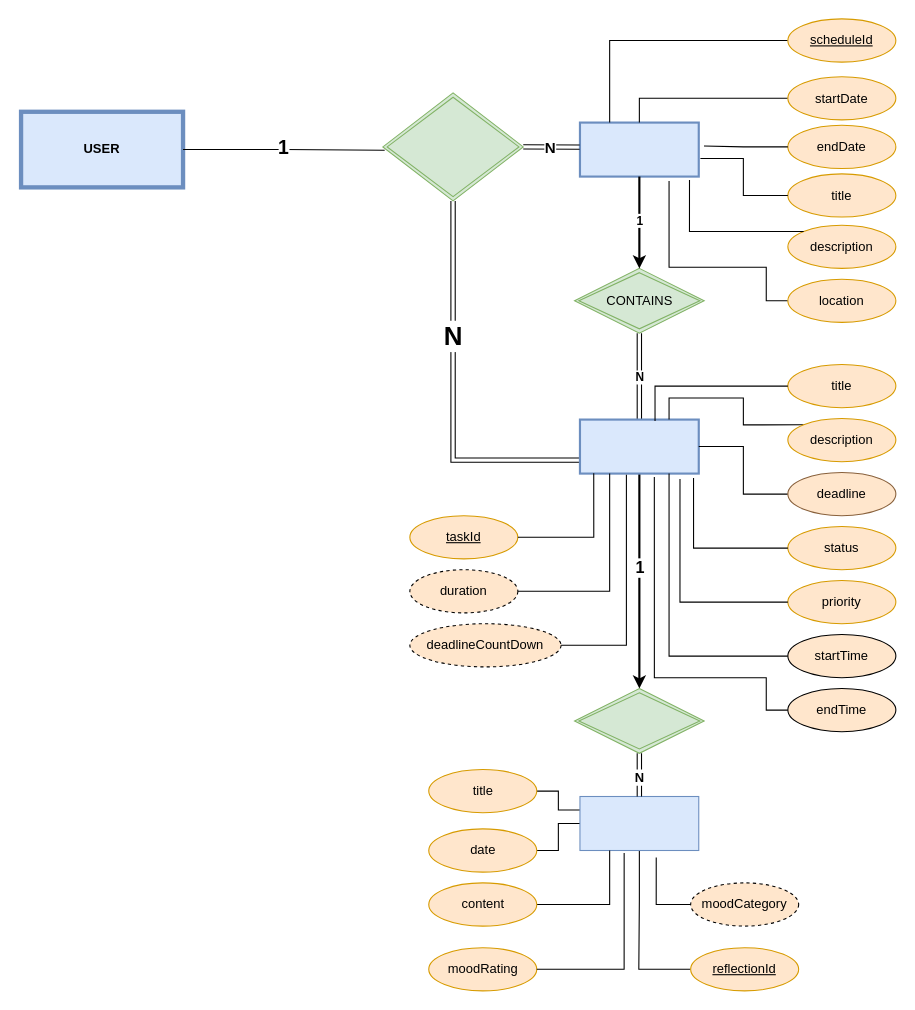
Image size: 915x1010. Some labels were removed from this diagram. The shapes that lost their labels are listed below. From the top down, each one's centre as x and y in pixels, then its label:
At (452,146): "CREATES".
At (638,149): "SCHEDULE".
At (638,446): "TASK / ASSIGNMENT".
At (638,720): "HAS".
At (639,822): "Reflection".
